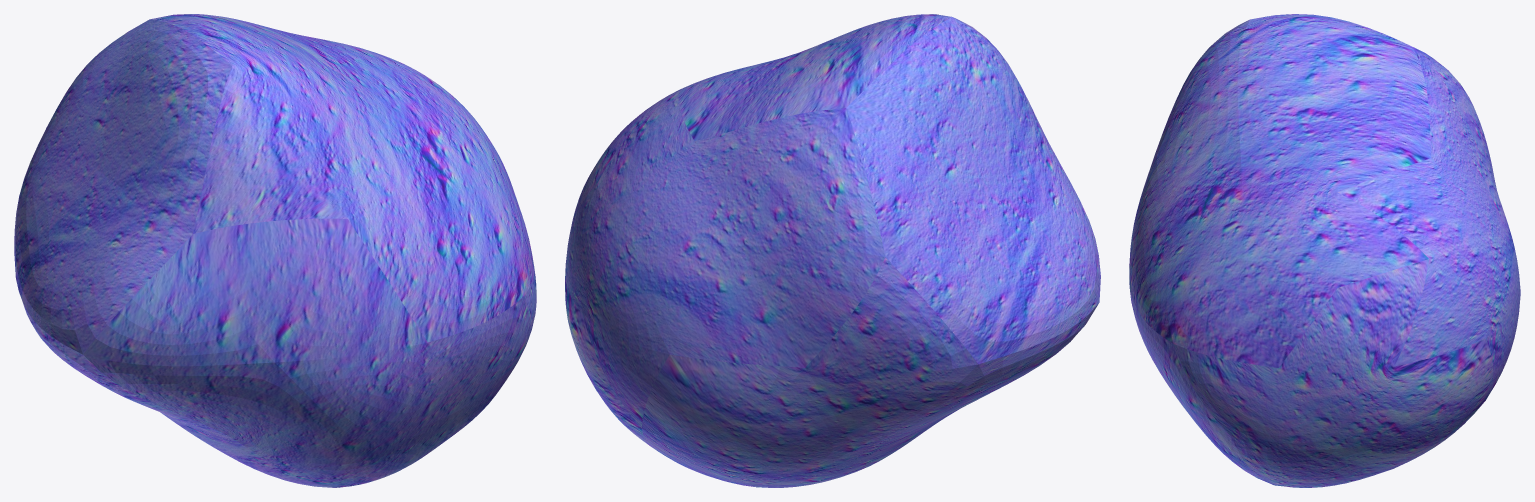
File: smallasteroid13_LOD1.fbx
The picture shows the model from 3 angles, left to right: view 1: azimuth 30°, elevation 25°; view 2: azimuth 150°, elevation 25°; view 3: azimuth 270°, elevation 25°; orthographic projection. The views are drawn at different scales.
Visible parts, largest first — view 1: Icosphere; view 2: Icosphere; view 3: Icosphere.
Part boxes in pixels (x1,y1,x2,y2): Icosphere: [14, 14, 536, 487]; Icosphere: [565, 14, 1100, 487]; Icosphere: [1129, 14, 1520, 487].
Size of the model in its own units: 234 by 224 by 199.
